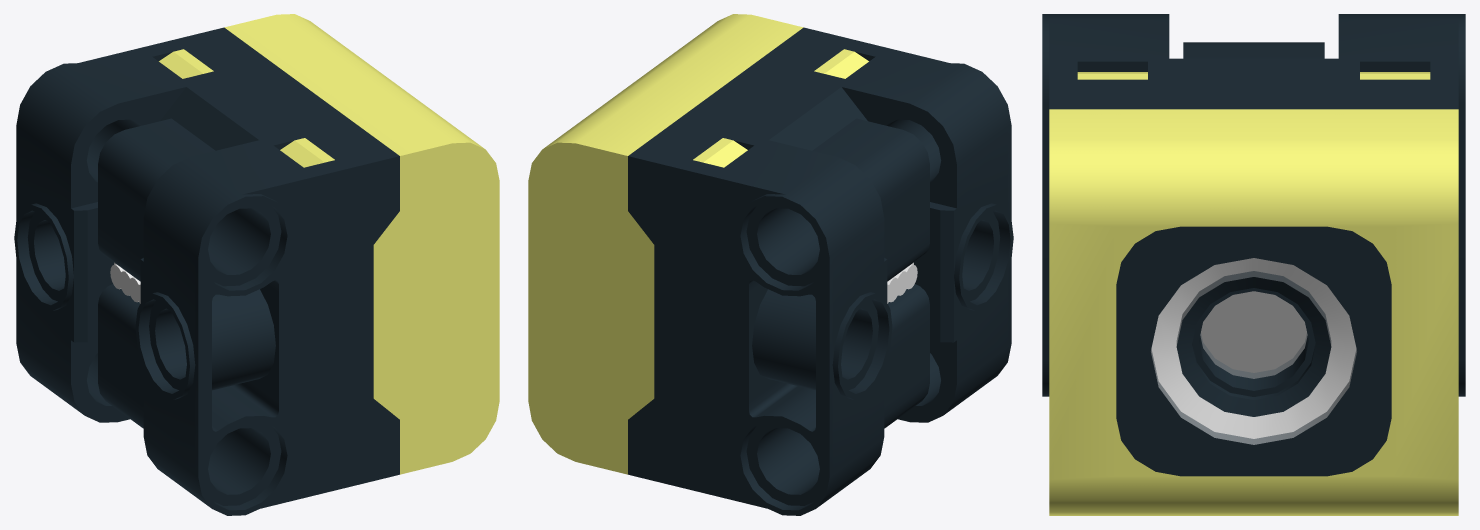
Rendered from color-sensor.glb.
3 renders of one model, left to right at view 1: azimuth 30°, elevation 25°; view 2: azimuth 150°, elevation 25°; view 3: azimuth 270°, elevation 25°, orthographic. The views are drawn at different scales.
Visible parts, largest first — view 1: u9408.dat, u9407.dat, u9460.dat, 37308.dat; view 2: u9408.dat, u9407.dat, u9460.dat, 37308.dat; view 3: u9407.dat, u9408.dat, u9406.dat, 37308.dat, u9405.dat, u9404.dat, u9403.dat.
Part boxes in pixels (bbox=[...]): u9408.dat: bbox=[14, 27, 399, 515]; u9407.dat: bbox=[159, 14, 499, 474]; u9460.dat: bbox=[98, 175, 145, 405]; 37308.dat: bbox=[110, 262, 140, 303]; u9408.dat: bbox=[628, 27, 1013, 515]; u9407.dat: bbox=[528, 14, 868, 474]; u9460.dat: bbox=[882, 175, 929, 405]; 37308.dat: bbox=[887, 262, 917, 303]; u9407.dat: bbox=[1049, 72, 1458, 515]; u9408.dat: bbox=[1042, 14, 1465, 396]; u9406.dat: bbox=[1116, 226, 1391, 476]; 37308.dat: bbox=[1151, 258, 1356, 438]; u9405.dat: bbox=[1151, 258, 1356, 444]; u9404.dat: bbox=[1176, 271, 1331, 416]; u9403.dat: bbox=[1200, 291, 1307, 378].
Size of the model in its own units: 2.36 by 2.32 by 2.4.
